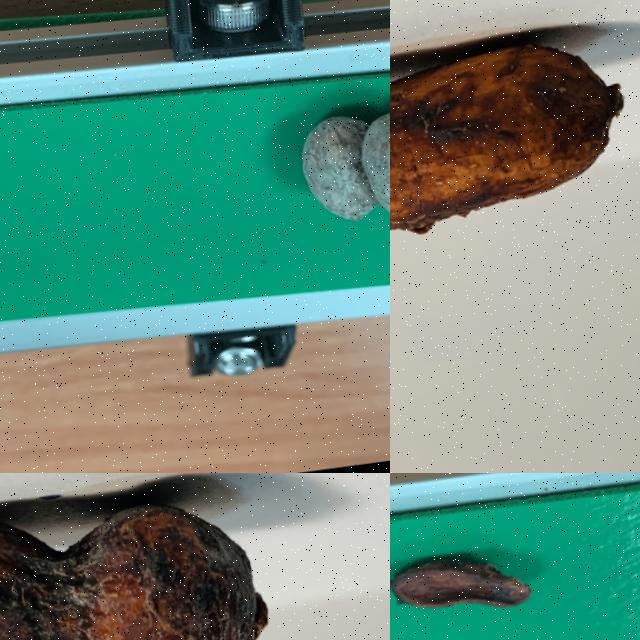Agglomerated_cocoabeans: (390, 0, 639, 418), (0, 473, 339, 639), (185, 52, 389, 281)
Flat_cocoabeans: (390, 486, 631, 639)
